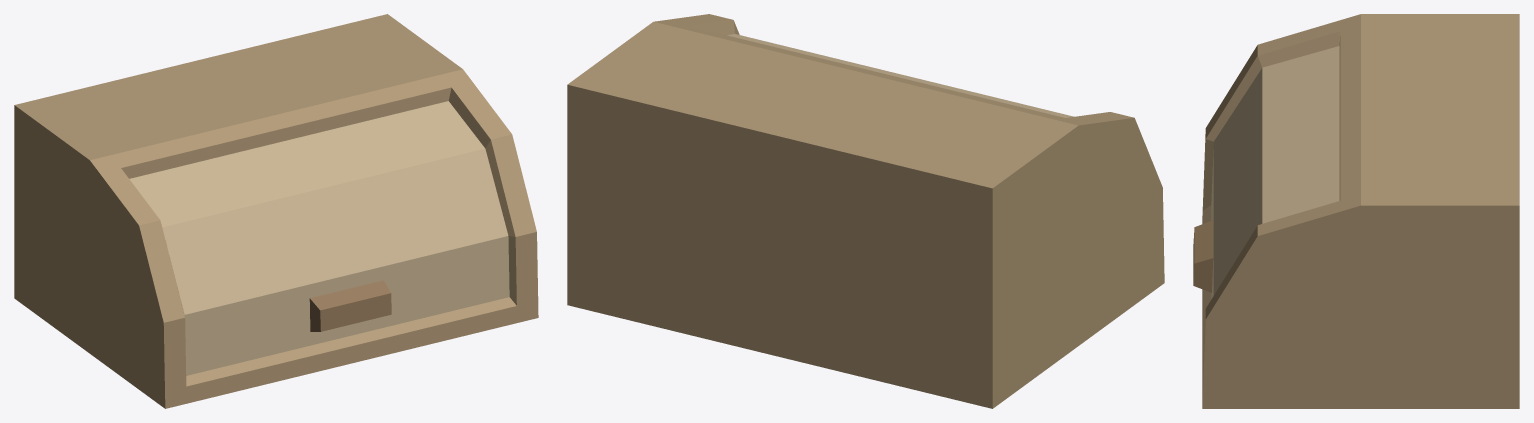
File: SM_Prop_BreadBin_01.fbx
The picture shows the model from 3 angles, left to right: view 1: azimuth 30°, elevation 25°; view 2: azimuth 150°, elevation 25°; view 3: azimuth 270°, elevation 25°; orthographic projection. The views are drawn at different scales.
Parts seen in each view (by area): view 1: SM_Prop_BreadBin_01; view 2: SM_Prop_BreadBin_01; view 3: SM_Prop_BreadBin_01.
Boxes of the visible parts, left/top/right/bottom form: SM_Prop_BreadBin_01: left=14, top=14, right=538, bottom=408; SM_Prop_BreadBin_01: left=567, top=14, right=1164, bottom=408; SM_Prop_BreadBin_01: left=1193, top=14, right=1519, bottom=408.
Bounding box in the file's own units: 50 × 24.77 × 36.04.
